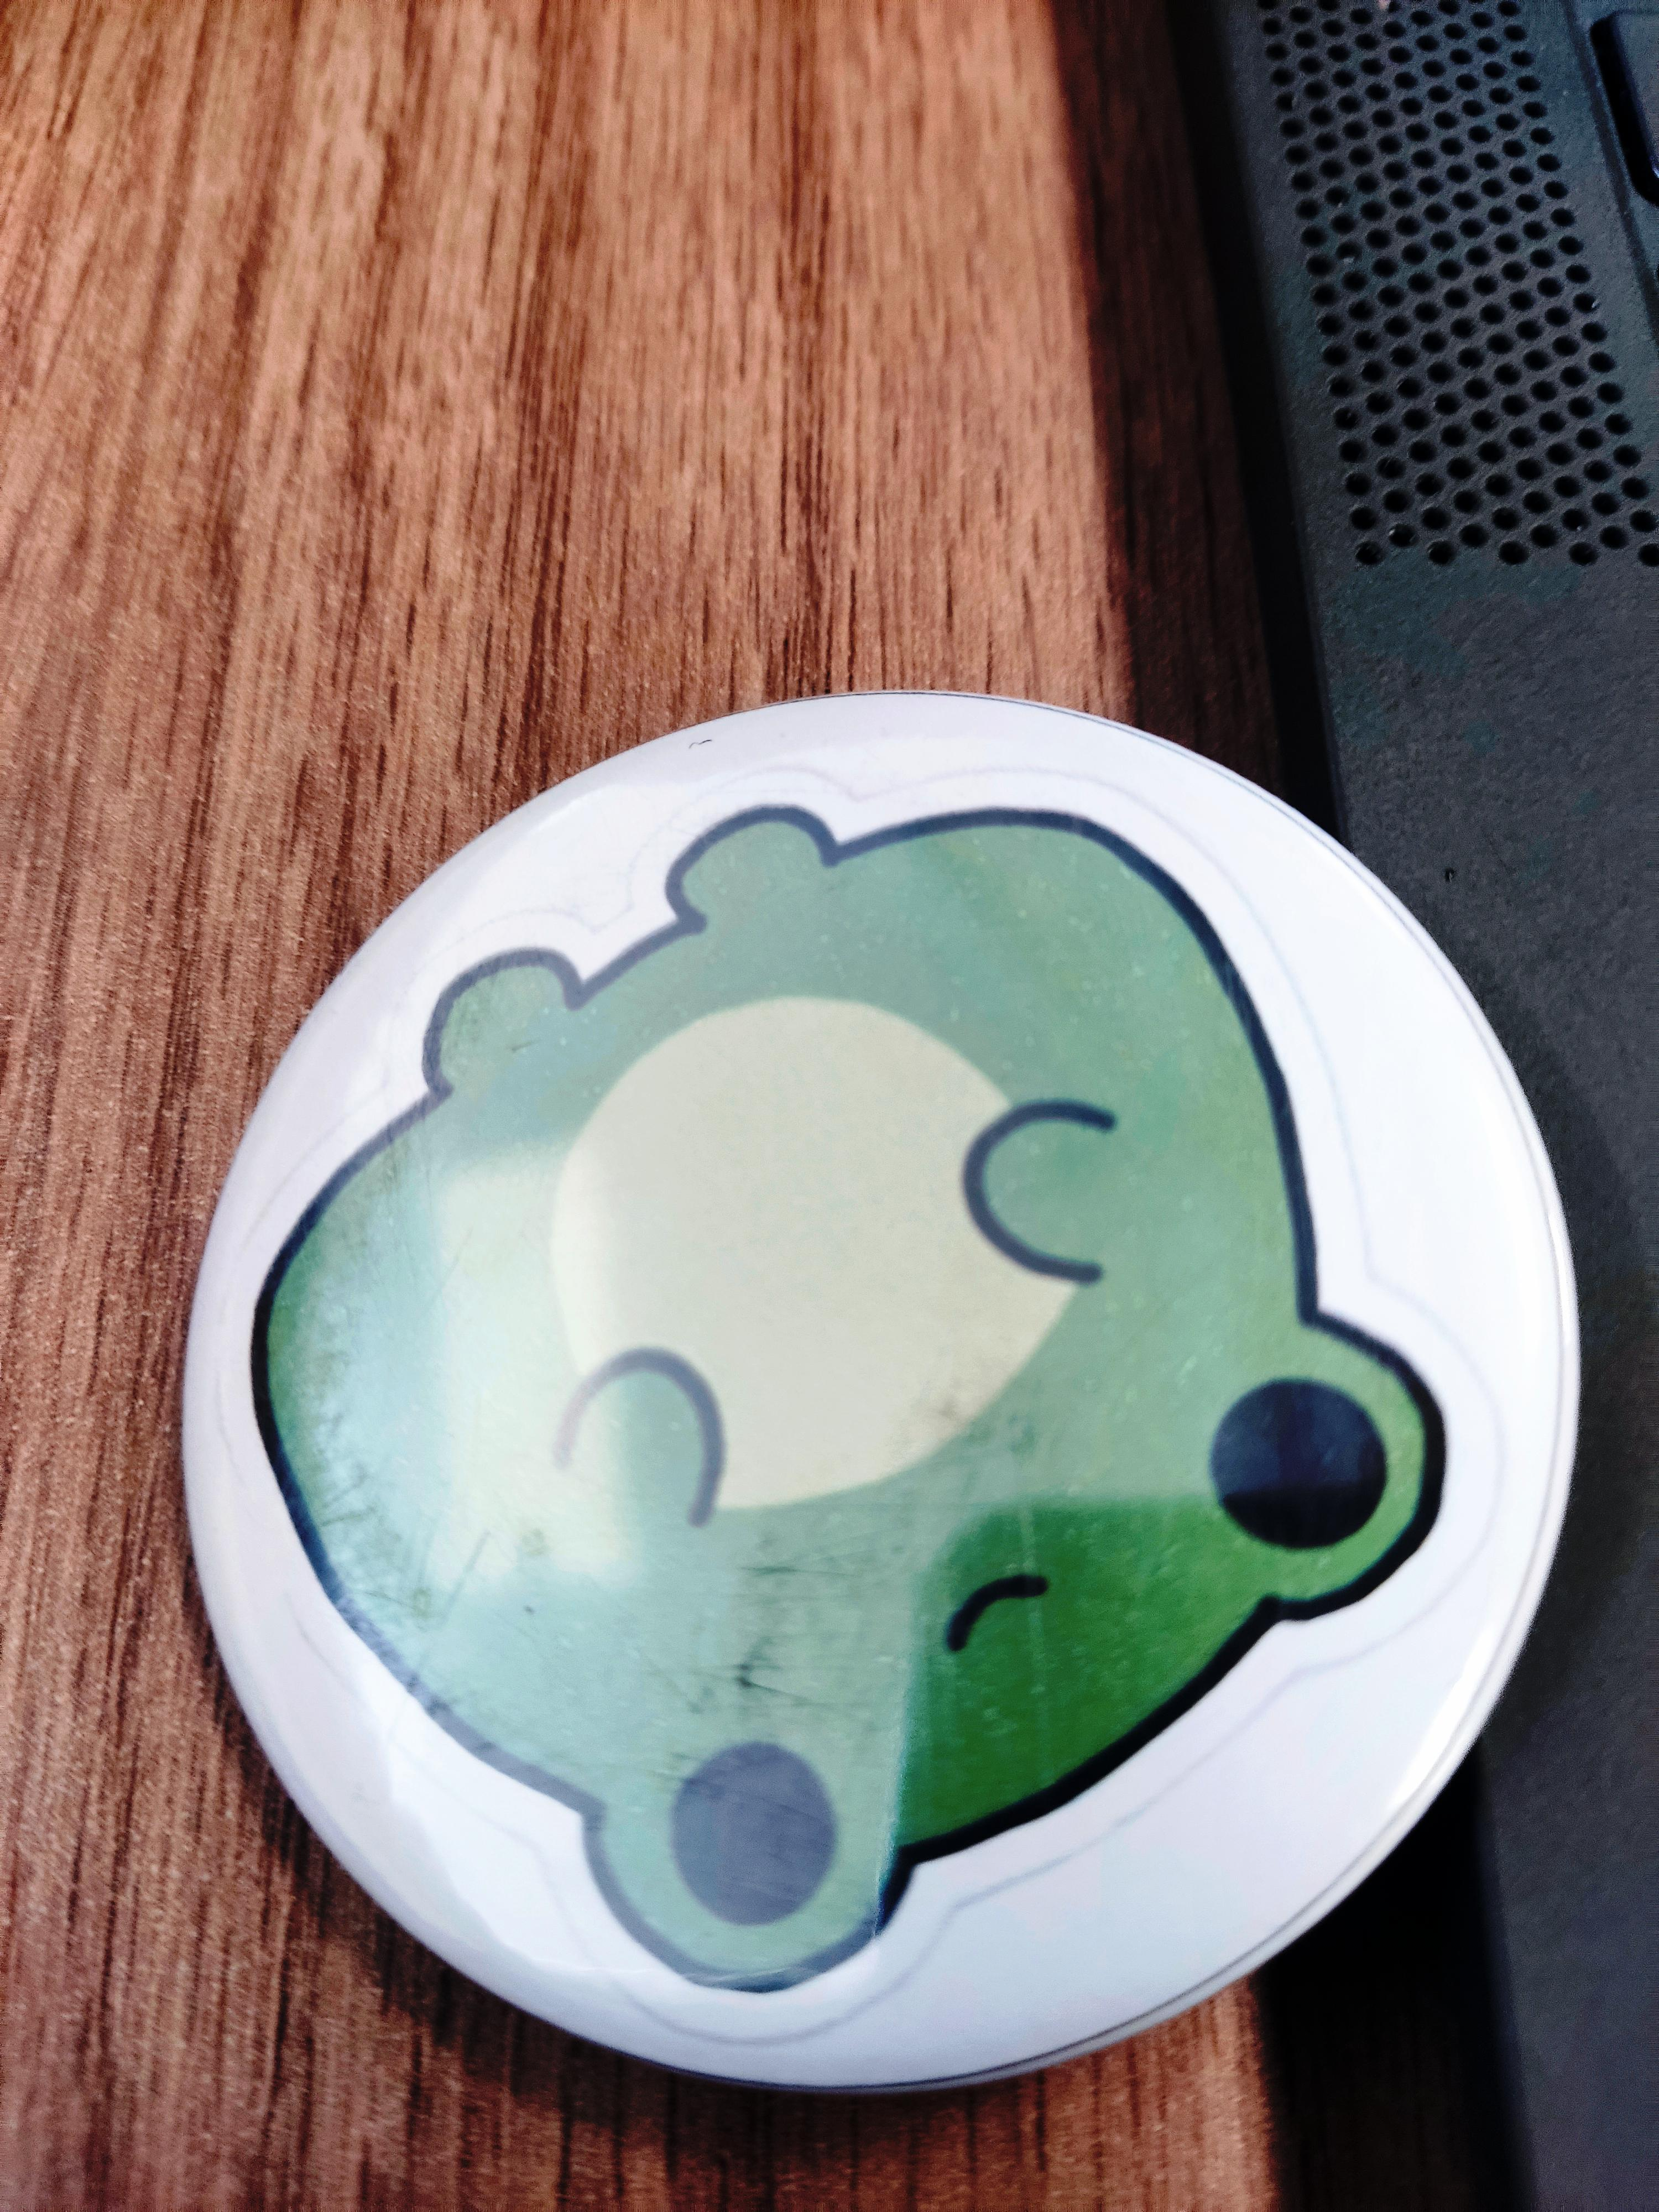pin: (171, 671, 1570, 2107)
